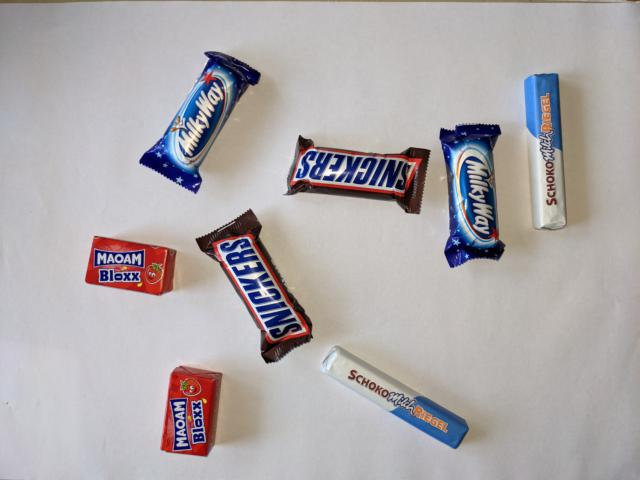MAOAM: (156, 363, 225, 460), (81, 231, 179, 298)
MilkyWay: (136, 48, 264, 196), (436, 120, 508, 270)
Schokoriegel: (313, 342, 472, 453), (521, 70, 571, 235)
Snickers: (192, 206, 316, 367), (279, 132, 433, 217)
